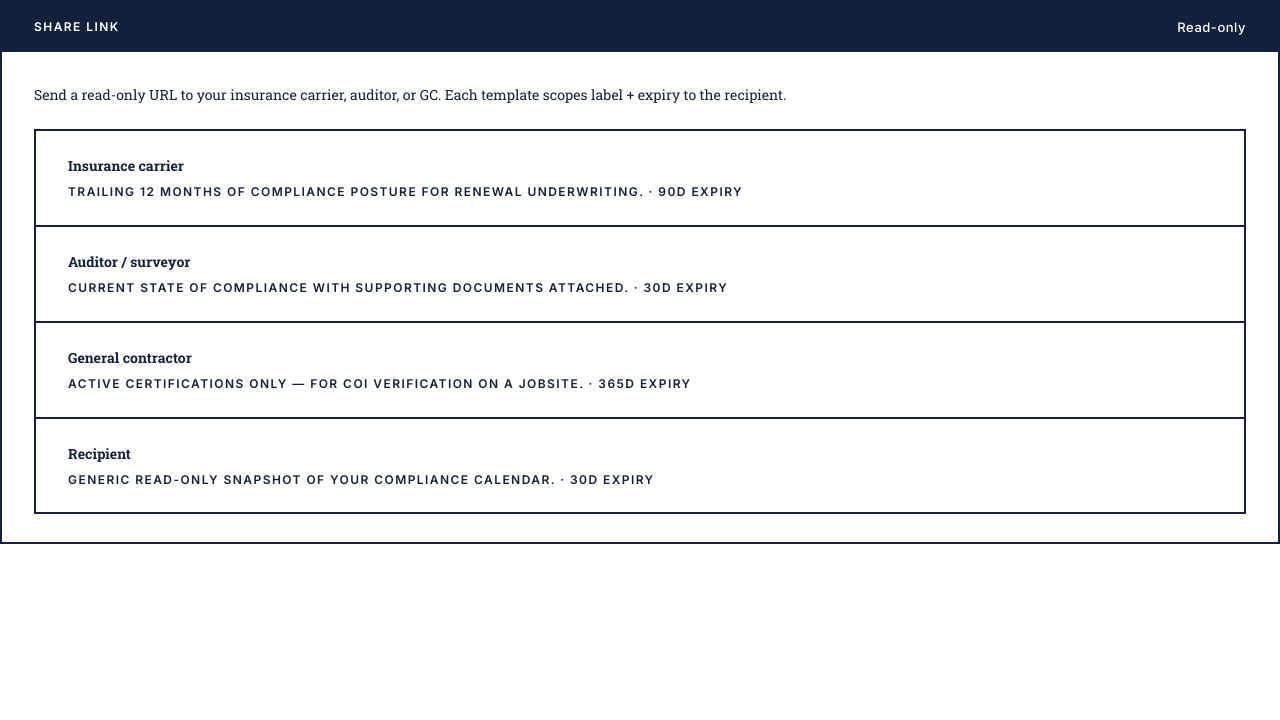
it: ShareLink › when canShare is true › shows error message when API returns error
The width and height of the screenshot is (1280, 720).
Click the button "Auditor / surveyor" at (129, 261), box [34,225,1246,323]
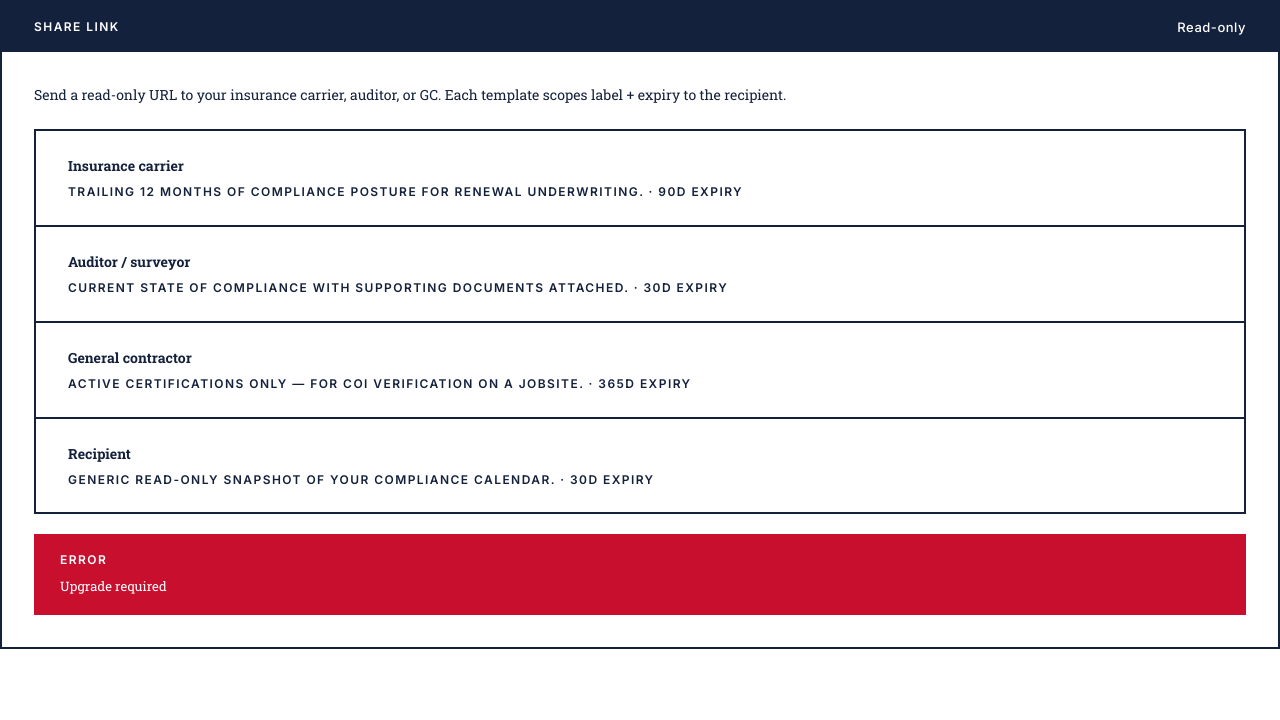
Now the text "Upgrade required" is shown, box [60,577,167,595]
